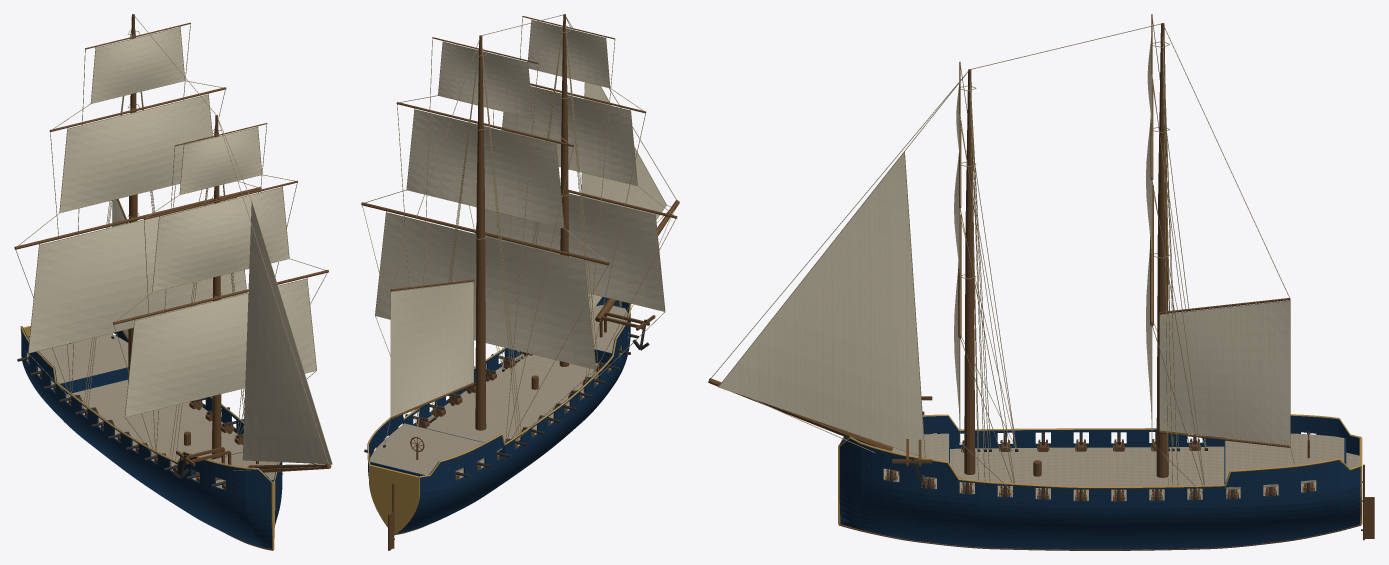
3 views of the same model, side by side, from view 1: azimuth 30°, elevation 25°; view 2: azimuth 150°, elevation 25°; view 3: azimuth 270°, elevation 25° (orthographic). The views are drawn at different scales.
Visible parts, largest first — view 1: lod2_main_square_00, lod2_fore_square_00, lod2_jib_00, lod2_hull_shell_starboard, lod2_main_square_01, lod2_fore_square_01, lod2_main_deck, lod2_main_square_02, lod2_fore_square_02, lod2_castle_deck_0, lod2_fore, lod2_main_square_00_yard (+10 smaller); view 2: lod2_main_square_00, lod2_main_square_01, lod2_fore_square_00, lod2_main_gaff_03, lod2_hull_shell_starboard, lod2_main_deck, lod2_fore_square_01, lod2_main_square_02, lod2_fore_square_02, lod2_main, lod2_castle_deck_0, lod2_jib_00 (+12 smaller); view 3: lod2_hull_shell_port, lod2_jib_00, lod2_main_gaff_03, lod2_main_deck, lod2_hull_shell_starboard, lod2_fore, lod2_castle_deck_0, lod2_main, lod2_gunwale_port, lod2_keel.
Boxes of the visible parts, x1,y1,x2,y2 form: lod2_main_square_00: [28, 197, 246, 352]; lod2_fore_square_00: [125, 279, 316, 416]; lod2_jib_00: [243, 203, 331, 463]; lod2_hull_shell_starboard: [21, 326, 272, 548]; lod2_main_square_01: [60, 95, 212, 212]; lod2_fore_square_01: [153, 187, 289, 291]; lod2_main_deck: [27, 353, 242, 488]; lod2_main_square_02: [91, 27, 184, 103]; lod2_fore_square_02: [180, 127, 261, 194]; lod2_castle_deck_0: [28, 333, 128, 383]; lod2_fore: [212, 115, 221, 459]; lod2_main_square_00_yard: [14, 187, 261, 249]; lod2_main_square_00: [375, 213, 595, 368]; lod2_main_square_01: [407, 110, 563, 227]; lod2_fore_square_00: [476, 194, 664, 311]; lod2_main_gaff_03: [391, 282, 473, 416]; lod2_hull_shell_starboard: [397, 301, 630, 533]; lod2_main_deck: [426, 332, 628, 478]; lod2_fore_square_01: [502, 86, 637, 185]; lod2_main_square_02: [438, 42, 532, 117]; lod2_fore_square_02: [528, 20, 609, 87]; lod2_main: [475, 35, 486, 430]; lod2_castle_deck_0: [370, 423, 502, 475]; lod2_jib_00: [581, 82, 666, 312]; lod2_hull_shell_port: [839, 438, 1360, 549]; lod2_jib_00: [719, 152, 924, 457]; lod2_main_gaff_03: [1160, 301, 1289, 444]; lod2_main_deck: [883, 446, 1359, 500]; lod2_hull_shell_starboard: [839, 415, 1359, 455]; lod2_fore: [964, 69, 975, 474]; lod2_castle_deck_0: [1225, 433, 1344, 489]; lod2_main: [1156, 23, 1168, 477]; lod2_gunwale_port: [839, 436, 1361, 488]; lod2_keel: [839, 524, 1361, 550].
Bounding box in the file's own units: 21.43 × 37.95 × 43.44.
7 materials, 7 textured.
